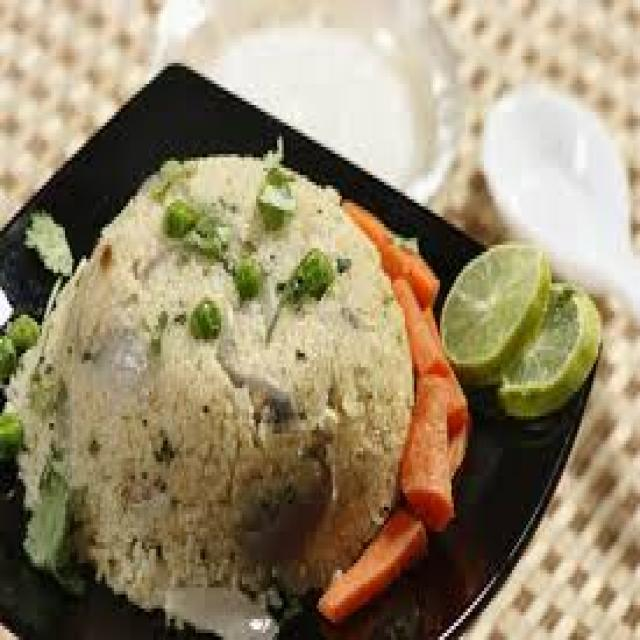UPMA: (0, 154, 419, 623)
